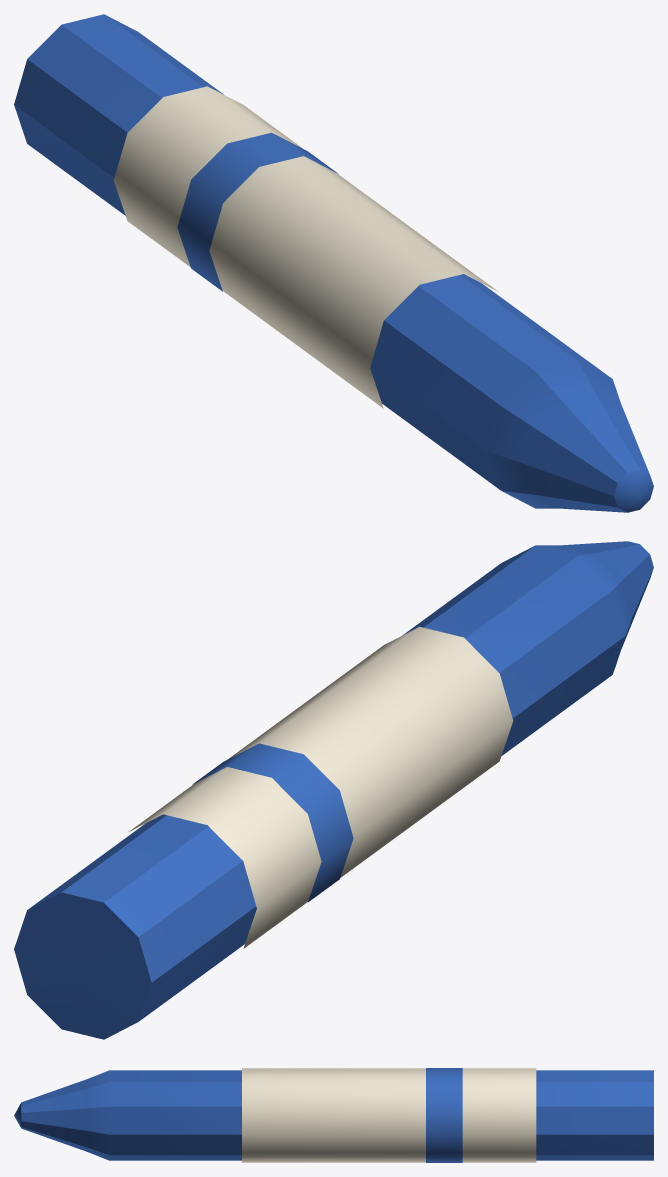
The model's file is den_crayon_b.glb.
3 views of the same model, one above another, from view 1: azimuth 30°, elevation 25°; view 2: azimuth 150°, elevation 25°; view 3: azimuth 270°, elevation 25° (orthographic). The views are drawn at different scales.
Parts seen in each view (by area): view 1: den_crayon_b; view 2: den_crayon_b; view 3: den_crayon_b.
Part boxes in pixels (x1=…): den_crayon_b: x1=14, y1=14, x2=653, y2=512; den_crayon_b: x1=14, y1=541, x2=653, y2=1039; den_crayon_b: x1=14, y1=1068, x2=653, y2=1162.
Bounding box in the file's own units: 1.3 × 1.24 × 8.7.
